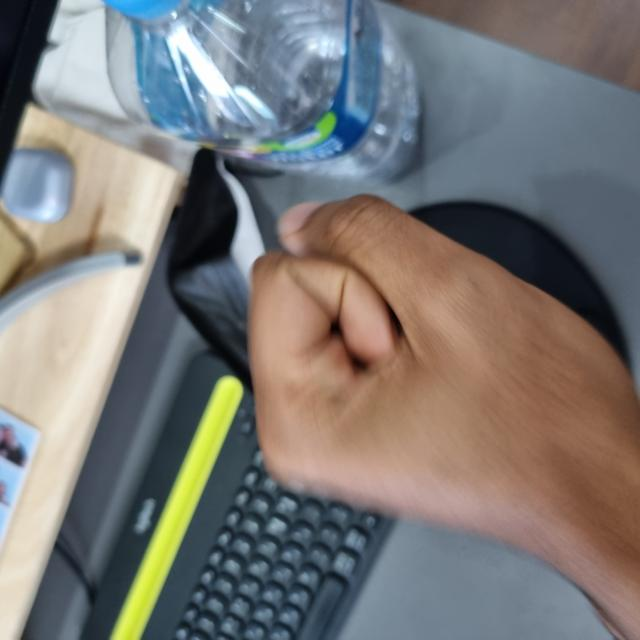Rock: (86, 247, 442, 636)
